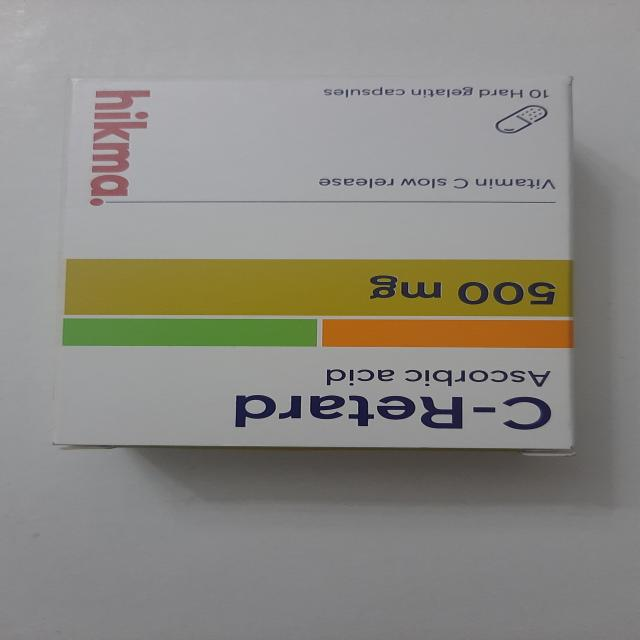C-Retard: (41, 65, 598, 488)
